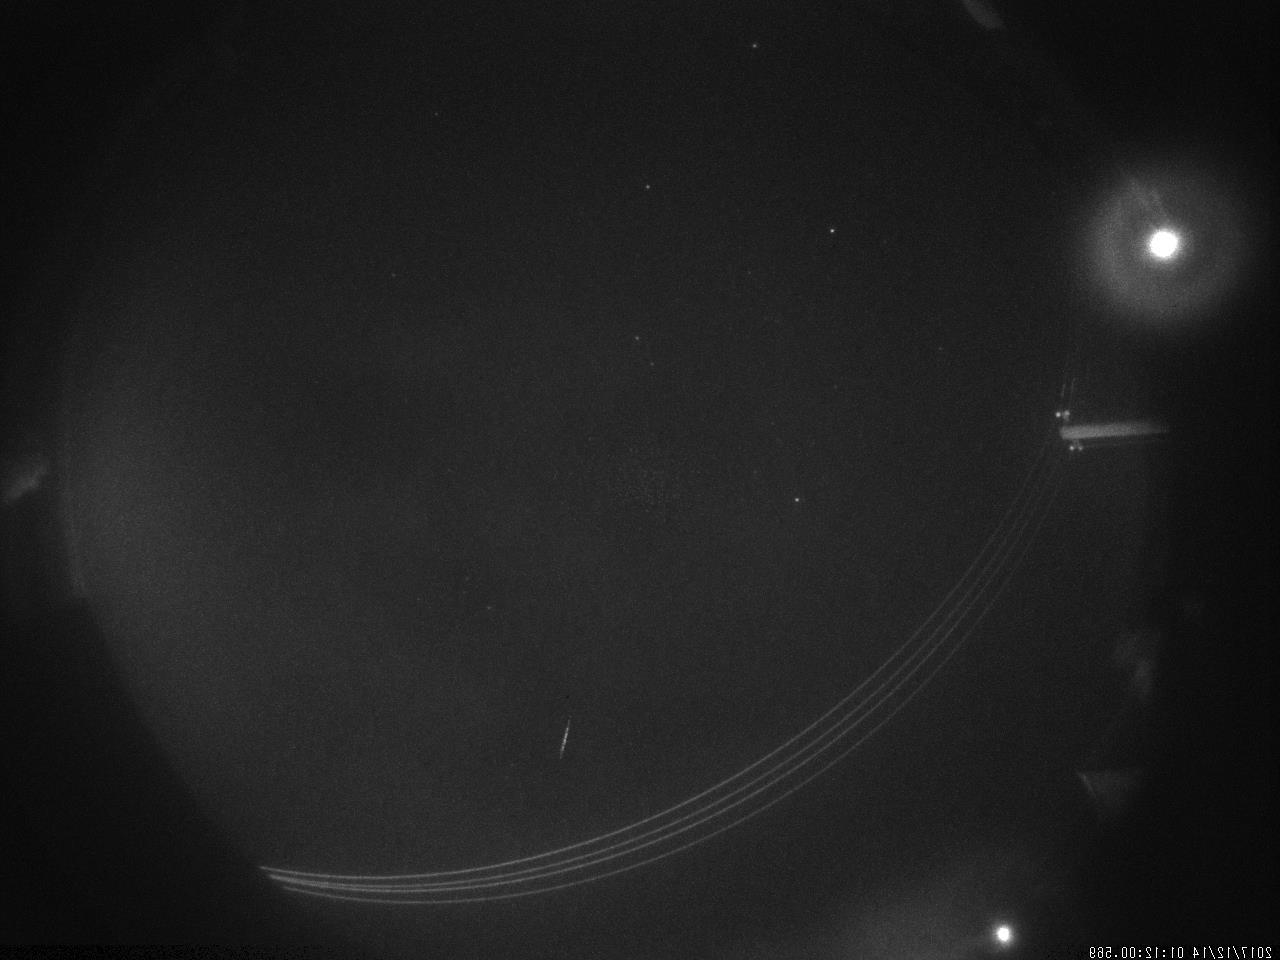meteor: (542, 704, 586, 774)
